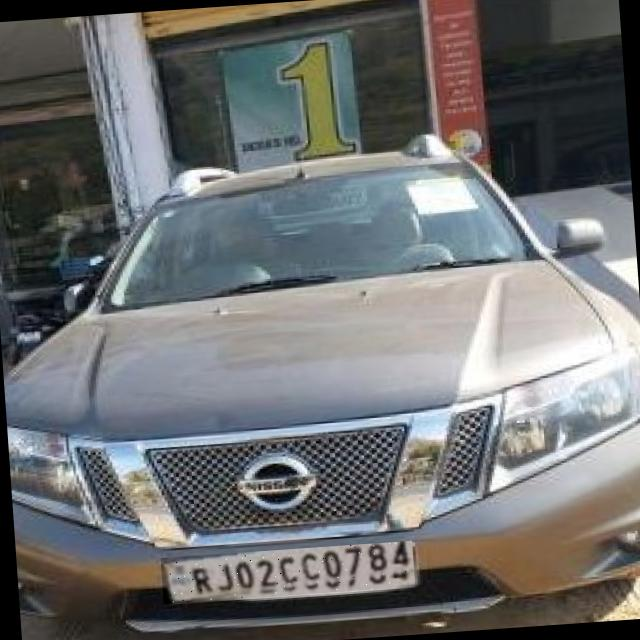Plate: (161, 542, 416, 605)
